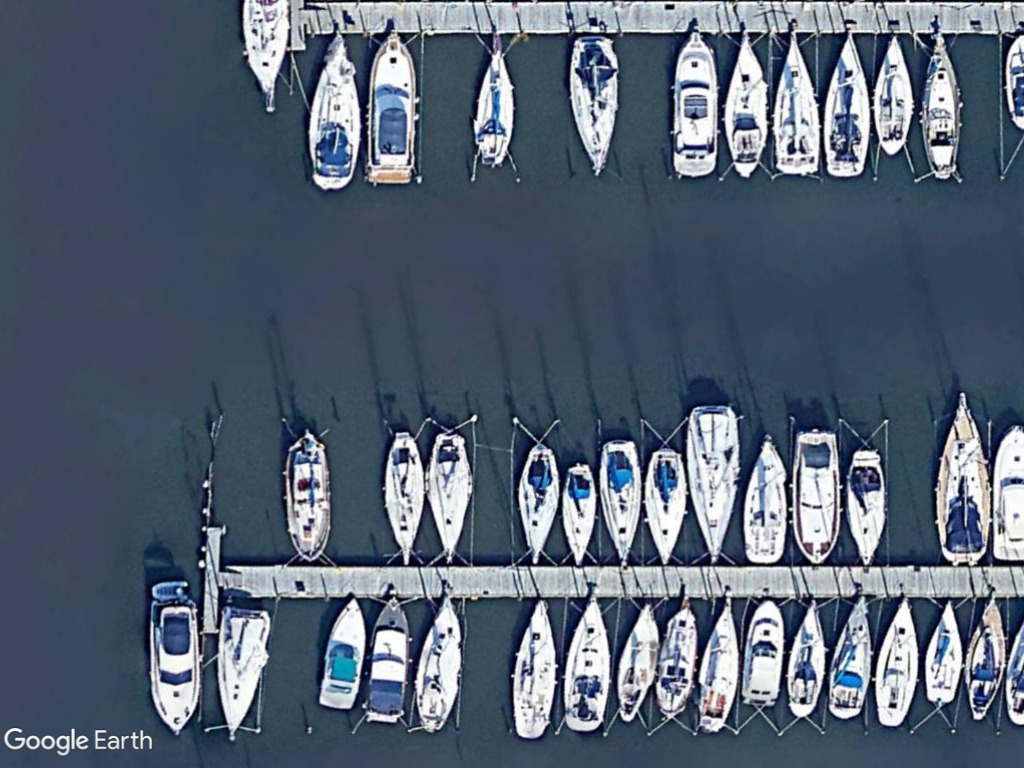boat: (925, 385, 994, 567), (684, 398, 743, 570), (213, 601, 280, 744), (765, 24, 825, 181), (305, 30, 362, 195), (148, 579, 205, 742), (363, 28, 421, 187), (563, 33, 623, 181), (559, 594, 619, 738), (665, 27, 721, 181), (507, 591, 563, 743), (784, 423, 843, 567), (408, 589, 464, 736), (866, 593, 926, 729), (719, 29, 773, 180), (820, 593, 881, 725), (821, 29, 873, 183), (421, 429, 477, 571), (915, 27, 965, 186), (608, 595, 666, 728), (691, 595, 746, 734), (958, 594, 1014, 728), (280, 426, 335, 561), (361, 593, 417, 725), (315, 593, 374, 714), (739, 433, 791, 570), (777, 598, 833, 724), (647, 598, 702, 726), (374, 425, 423, 568), (463, 41, 516, 172), (594, 436, 644, 573), (511, 438, 562, 570), (839, 444, 892, 569), (641, 444, 691, 574), (870, 28, 916, 161), (738, 594, 788, 709), (916, 597, 966, 707), (560, 462, 599, 571)
